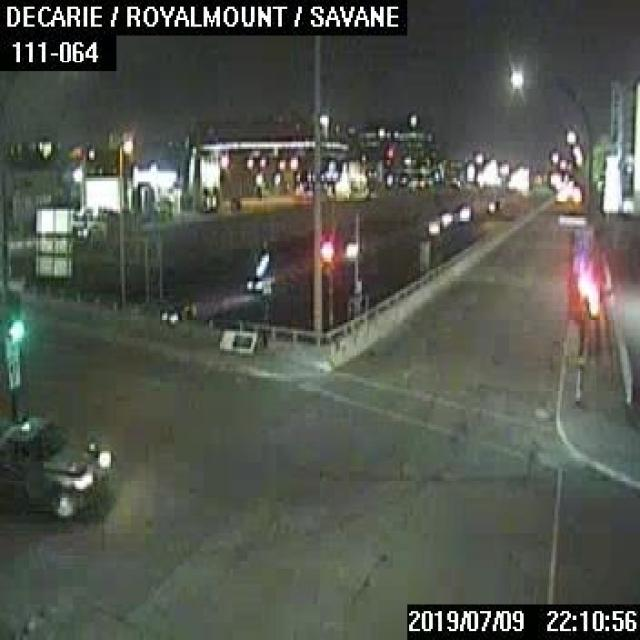vehicle: (0, 407, 115, 518), (158, 297, 196, 325), (242, 270, 274, 293)
